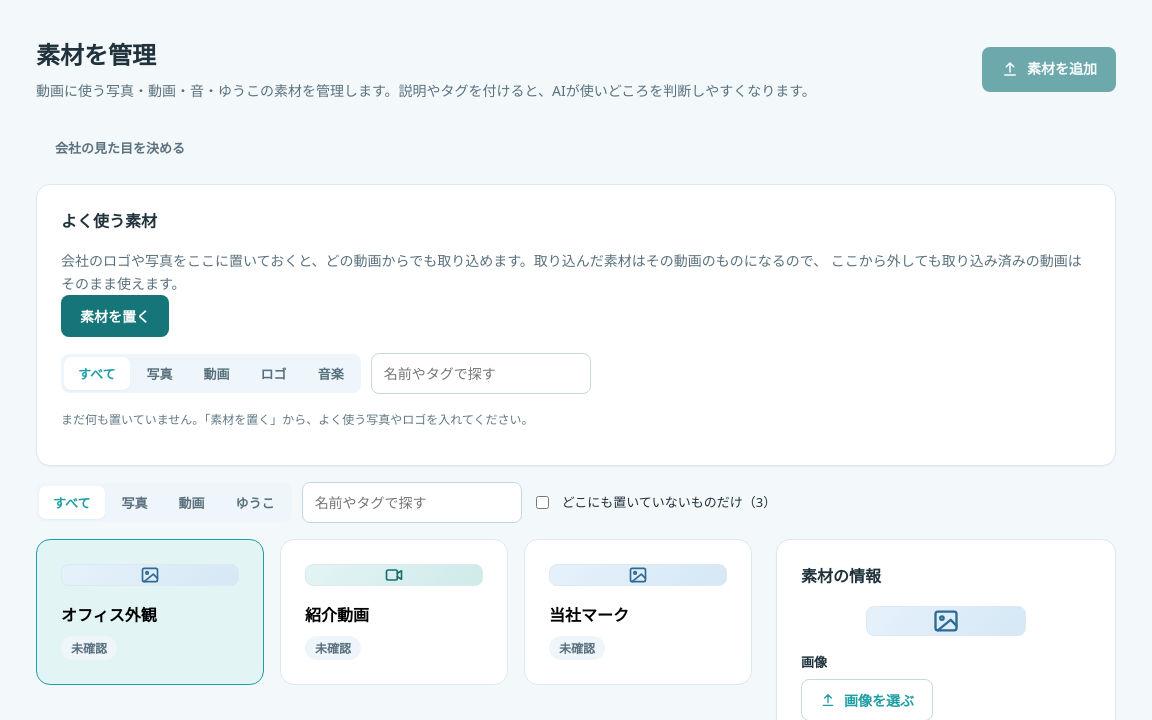
MaterialsScreen AI解析の欄 › ロゴには出さない（AI が読まない素材）
Click the text "当社マーク". click: x=589, y=614
box: [549,602,629,626]
(page scrolled)
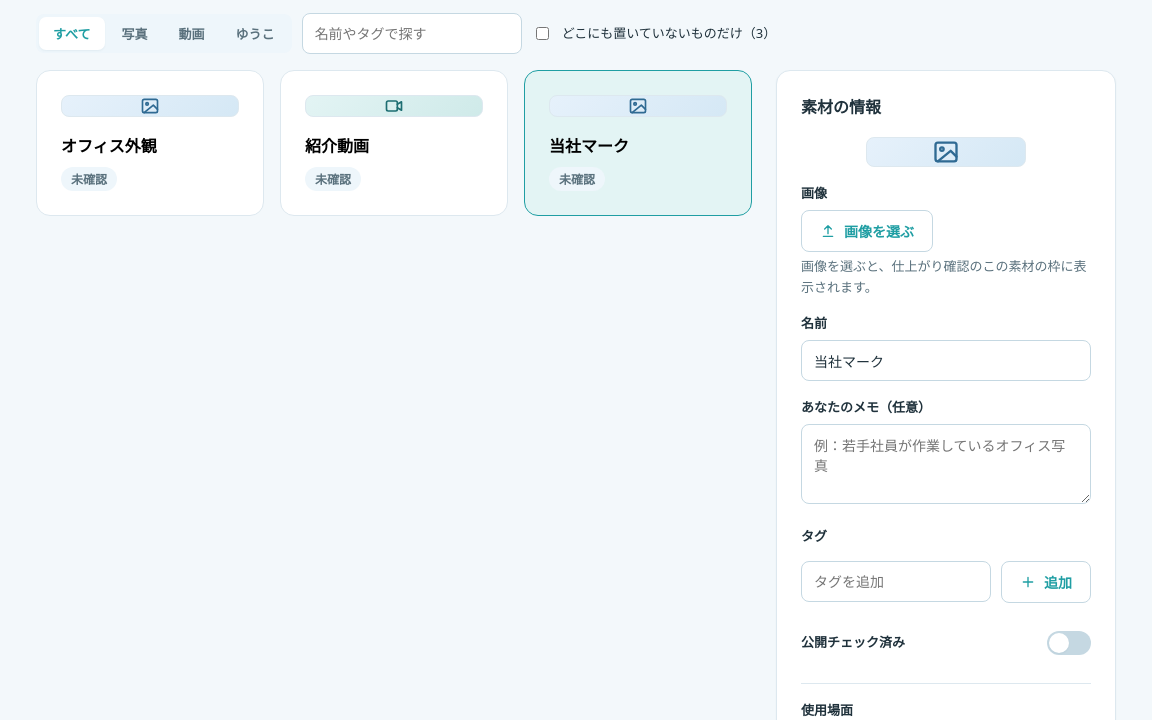
Result: the field labelled "名前" holds "当社マーク" at [801,340,1091,381]
